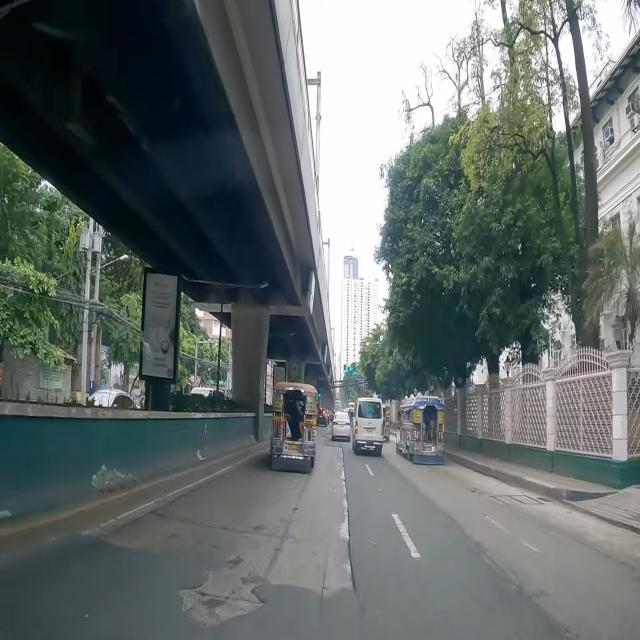car: (352, 398, 384, 456), (331, 412, 351, 441)
jeepney: (270, 383, 316, 472), (396, 396, 444, 464), (383, 404, 391, 442)
truck: (334, 400, 342, 410)
